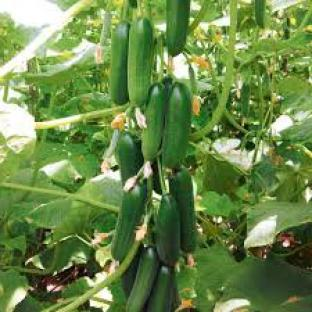Cucumber: (111, 184, 146, 260), (163, 82, 191, 167), (128, 19, 153, 106), (170, 170, 196, 253), (127, 247, 159, 311), (142, 84, 165, 160), (156, 195, 180, 266), (110, 21, 130, 105), (117, 132, 144, 183), (147, 267, 174, 311), (121, 246, 142, 298), (172, 276, 181, 310), (153, 163, 162, 194)
